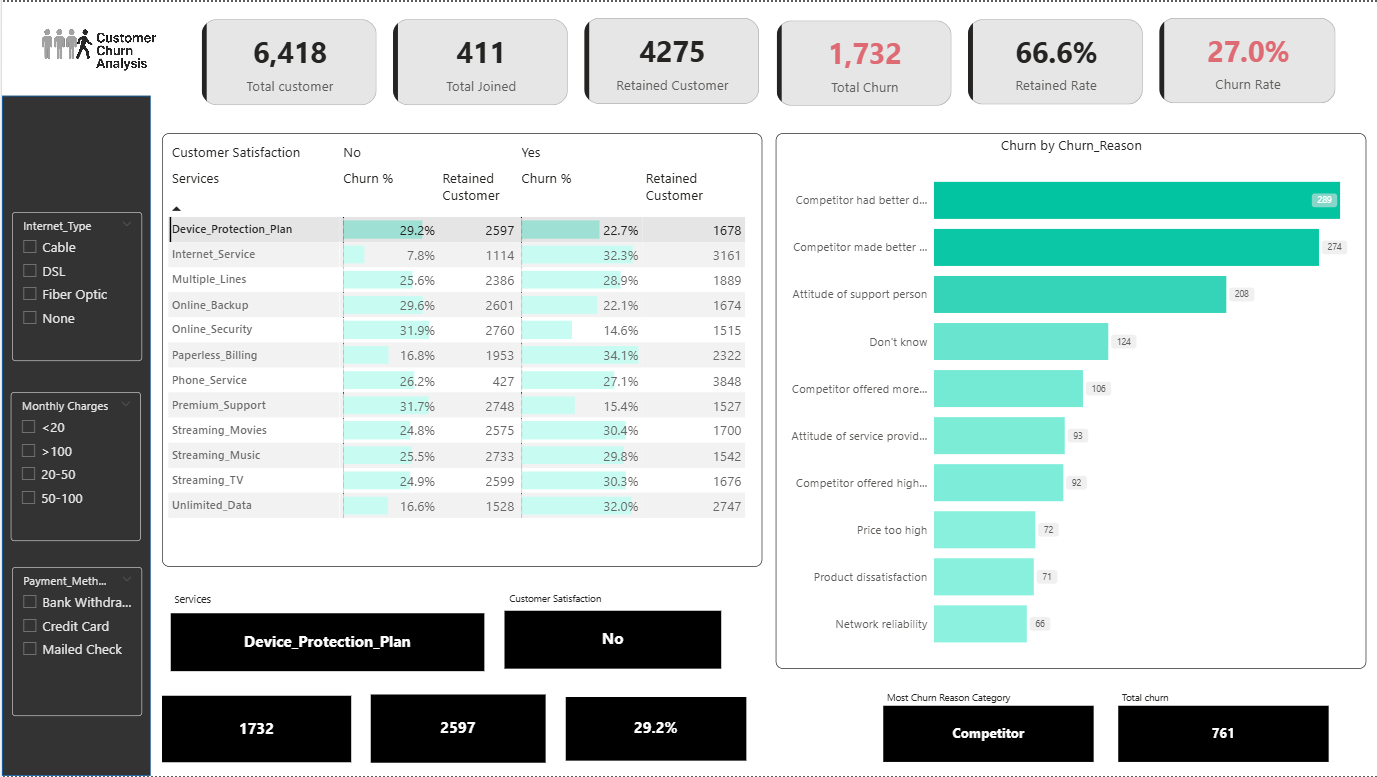

Layout of this report page (visuals, bound fields, positions):
{"tool":"powerbi","page":{"name":"Churn-Details","canvas":[1920,1080],"ordinal":1},"visuals":[{"type":"shape","box":[0,130.8,207.6,948.8],"z":0},{"type":"slicer","fields":{"Values":["prod_churn.Internet_Type"]},"box":[14,293.8,181.9,208.1],"z":1000},{"type":"slicer","fields":{"Values":["prod_churn.Monthly_charge_range"]},"box":[12.2,543.9,181.9,208.1],"z":2000},{"type":"slicer","fields":{"Values":["prod_churn.Payment_Method"]},"box":[14,788.8,181.9,208.1],"z":3000},{"type":"pivotTable","fields":{"Rows":["prod_churn.Services"],"Columns":["prod_churn.Value"],"Values":["_measures.Churn Rate","_measures.Retained Customer"]},"box":[223.9,183.6,837.8,605.1],"z":4000},{"type":"clusteredBarChart","title":" Churn by Churn_Reason","fields":{"Category":["prod_churn.Churn_Reason"],"Y":["_measures.Total Churn"]},"box":[1079.1,183.6,823.8,746.8],"z":5000},{"type":"card","fields":{"Values":["Min(prod_churn.Services)"]},"box":[235.4,852.8,437.8,80.5],"z":6000},{"type":"card","fields":{"Values":["_measures.Total Churned (details)"]},"box":[223,968.5,264.3,92.9],"z":7000},{"type":"cardVisual","fields":{"Data":["_measures.Total customer"]},"box":[300,20.9,254.7,130.8],"z":8000,"group":"g1"},{"type":"card","fields":{"Values":["_measures.Churn Rate"]},"box":[786.8,970.5,251.9,88.8],"z":9000},{"type":"cardVisual","fields":{"Data":["_measures.Total Joined"]},"box":[567.2,20.9,254.7,130.8],"z":10000,"group":"g1"},{"type":"card","fields":{"Values":["_measures.Retained Customer"]},"box":[514.2,966.4,243.7,95],"z":11000},{"type":"cardVisual","fields":{"Data":["_measures.Total Churn"]},"box":[1101.6,22.7,254.7,129.1],"z":12000,"group":"g1"},{"type":"card","fields":{"Values":["Min(prod_churn.Churn_Category)"]},"box":[1229.5,981.2,293.8,78.7],"z":13000},{"type":"card","fields":{"Values":["_measures.Total Churn"]},"box":[1558.3,981.2,293.8,78.7],"z":14000},{"type":"cardVisual","fields":{"Data":["_measures.Churn Rate"]},"box":[1636.1,19.2,256.4,129.1],"z":15000,"group":"g1"},{"type":"textbox","box":[1229.5,956.7,220.4,40.2],"z":16000},{"type":"textbox","box":[1558.3,956.7,153.9,40.2],"z":17000},{"type":"card","fields":{"Values":["Min(prod_churn.Value)"]},"box":[701.3,850,302.6,80.5],"z":18000},{"type":"textbox","box":[235.5,818,319.2,45.3],"z":19000},{"type":"textbox","box":[702.9,818,256.4,31.4],"z":20000},{"type":"image","box":[1.7,8.7,272.1,106.4],"z":21000},{"type":"cardVisual","fields":{"Data":["_measures.Retained Rate"]},"box":[1368.8,20.9,254.7,129.1],"z":22000,"group":"g1"},{"type":"cardVisual","fields":{"Data":["_measures.Retained Customer"]},"box":[834.4,19.2,254.7,130.8],"z":23000,"group":"g1"},{"type":"group","id":"g1","title":"Group 1","box":[300,19.2,1592.4,132.6],"z":23001}]}

Visuals, with their boxes in screenshot pixels (x1, y1, x2, y2), scaled from the page's 1920x1080 canvas onto the 1377x777 screenshot:
shape: (x1=0, y1=94, x2=149, y2=776)
slicer - prod_churn.Internet_Type: (x1=10, y1=211, x2=140, y2=361)
slicer - prod_churn.Monthly_charge_range: (x1=9, y1=391, x2=139, y2=541)
slicer - prod_churn.Payment_Method: (x1=10, y1=567, x2=140, y2=717)
pivotTable - prod_churn.Services x prod_churn.Value: (x1=161, y1=132, x2=761, y2=567)
" Churn by Churn_Reason" clusteredBarChart: (x1=774, y1=132, x2=1365, y2=669)
card - Min(prod_churn.Services): (x1=169, y1=614, x2=483, y2=671)
card - _measures.Total Churned (details): (x1=160, y1=697, x2=349, y2=764)
cardVisual - _measures.Total customer: (x1=215, y1=15, x2=398, y2=109)
card - _measures.Churn Rate: (x1=564, y1=698, x2=745, y2=762)
cardVisual - _measures.Total Joined: (x1=407, y1=15, x2=589, y2=109)
card - _measures.Retained Customer: (x1=369, y1=695, x2=544, y2=764)
cardVisual - _measures.Total Churn: (x1=790, y1=16, x2=973, y2=109)
card - Min(prod_churn.Churn_Category): (x1=882, y1=706, x2=1092, y2=763)
card - _measures.Total Churn: (x1=1118, y1=706, x2=1328, y2=763)
cardVisual - _measures.Churn Rate: (x1=1173, y1=14, x2=1357, y2=107)
textbox: (x1=882, y1=688, x2=1040, y2=717)
textbox: (x1=1118, y1=688, x2=1228, y2=717)
card - Min(prod_churn.Value): (x1=503, y1=612, x2=720, y2=669)
textbox: (x1=169, y1=589, x2=398, y2=621)
textbox: (x1=504, y1=589, x2=688, y2=611)
image: (x1=1, y1=6, x2=196, y2=83)
cardVisual - _measures.Retained Rate: (x1=982, y1=15, x2=1164, y2=108)
cardVisual - _measures.Retained Customer: (x1=598, y1=14, x2=781, y2=108)
"Group 1" group: (x1=215, y1=14, x2=1357, y2=109)
